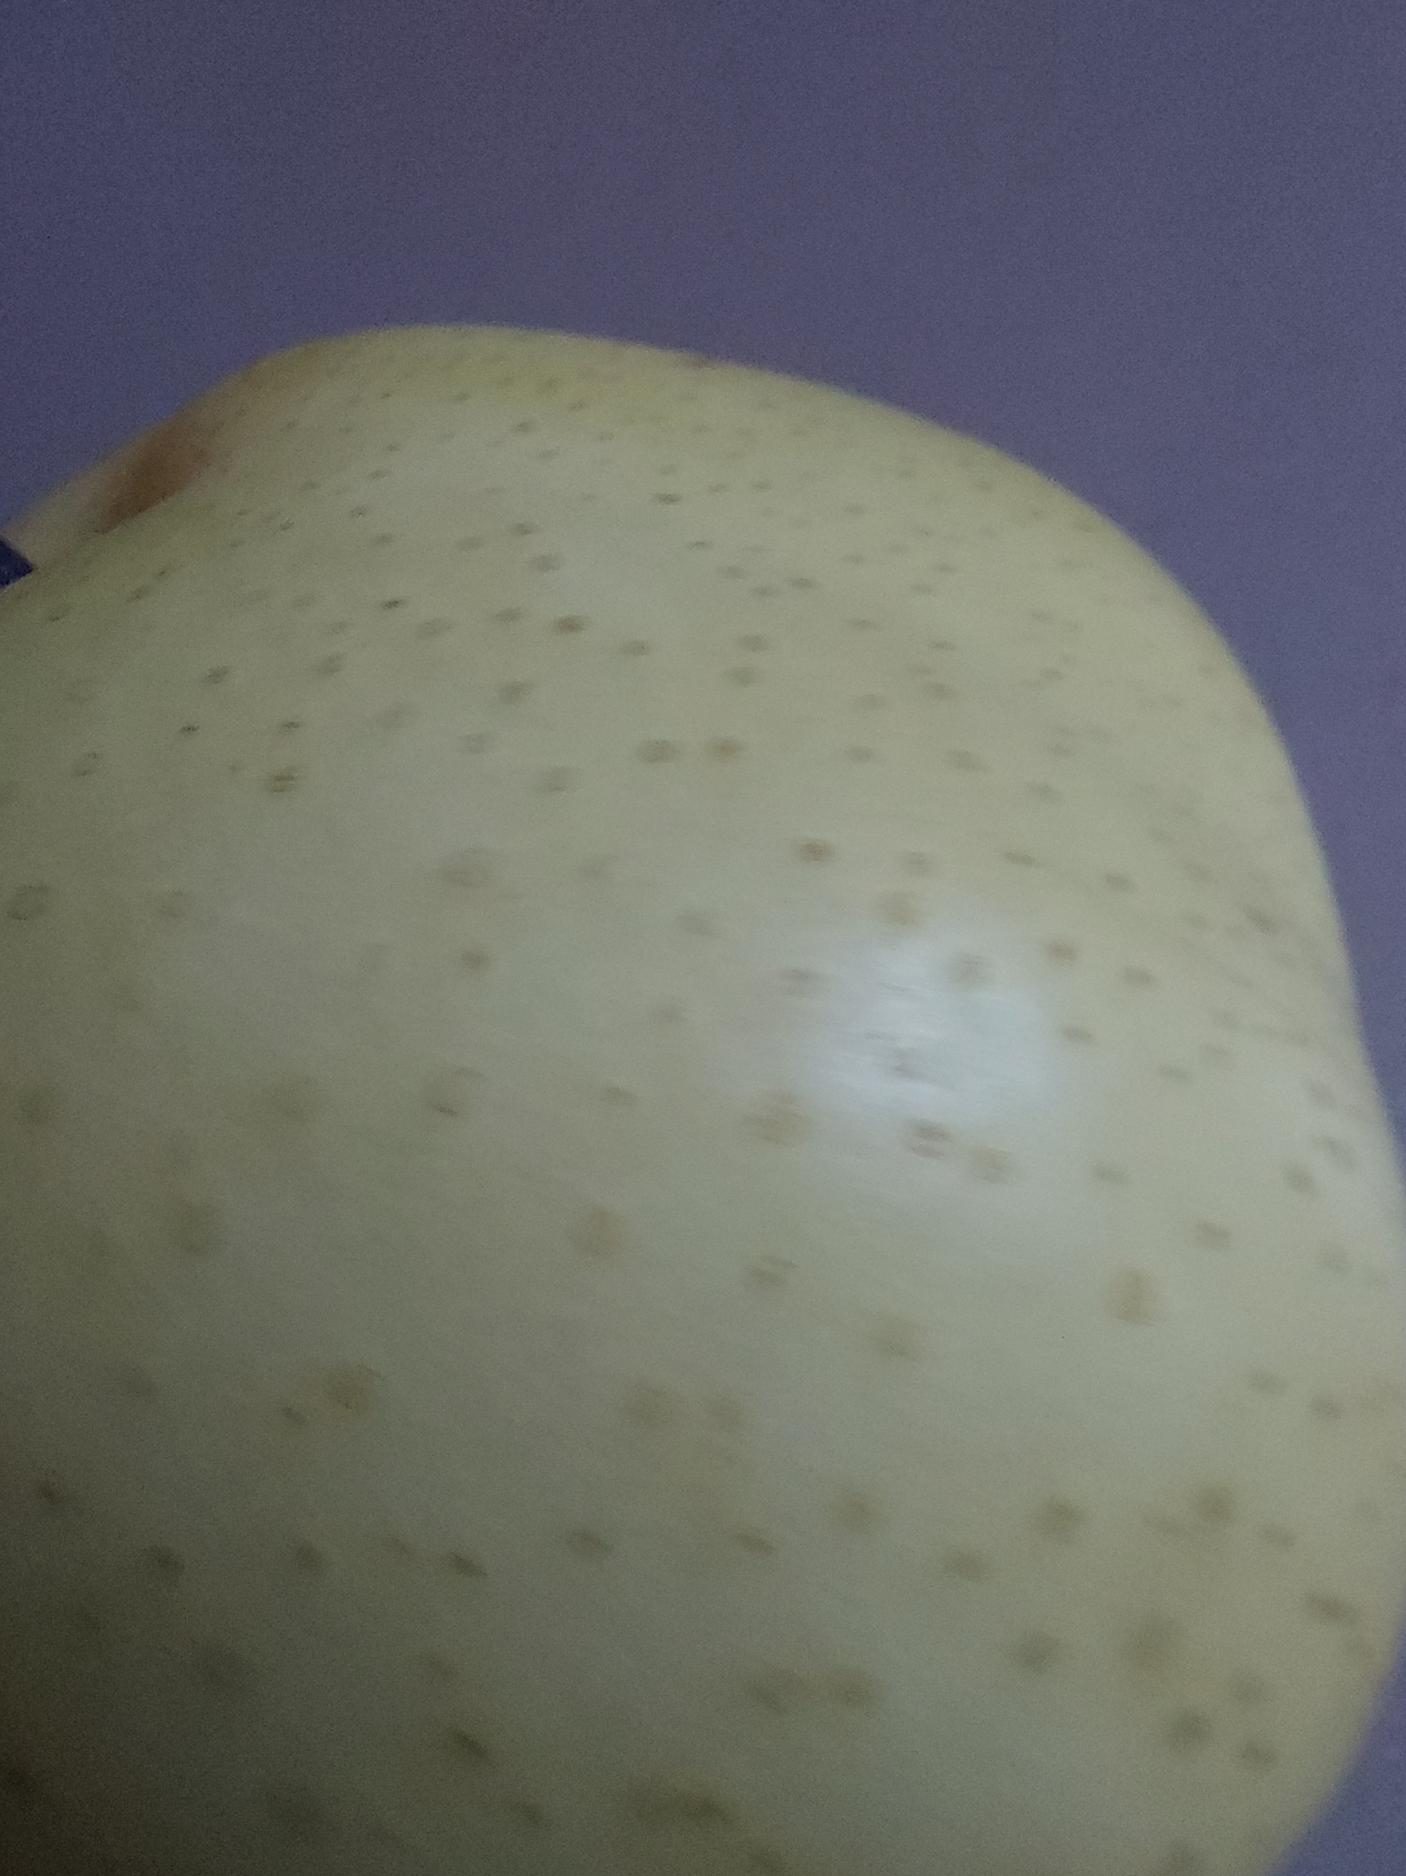Good Pear: (0, 241, 1406, 1876)
